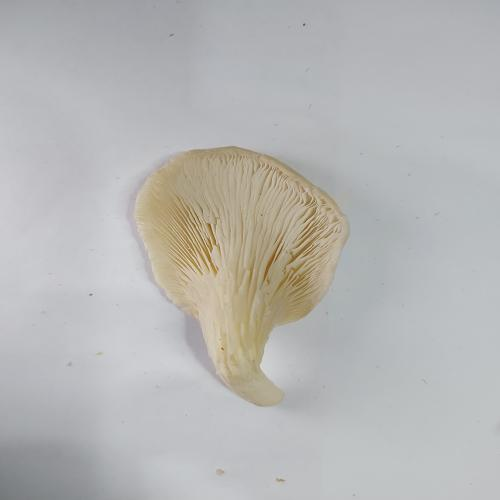Oyster Mushroom: (132, 145, 351, 407)
